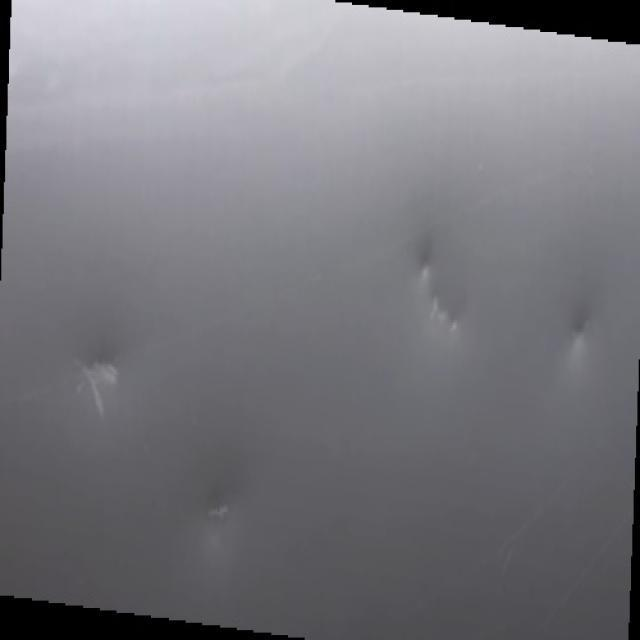dent: (403, 244, 474, 355), (74, 345, 169, 417), (188, 490, 247, 567), (567, 315, 607, 374)
